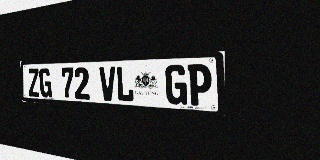2: (74, 67, 89, 100)
7: (60, 67, 75, 99)
G: (165, 64, 187, 105), (39, 68, 52, 98)
L: (116, 66, 134, 102)
P: (188, 64, 212, 106)
V: (99, 66, 116, 101)
Z: (28, 68, 40, 97)
